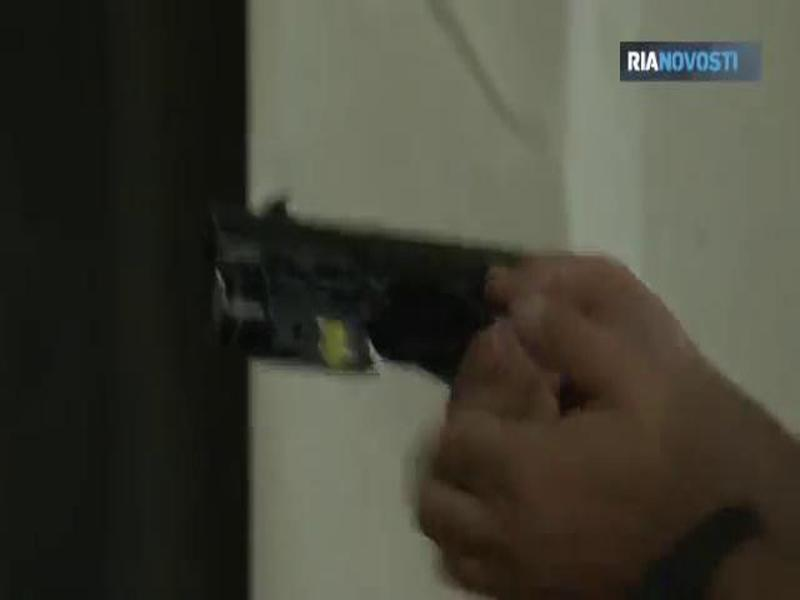Pistola: (166, 187, 700, 542)
